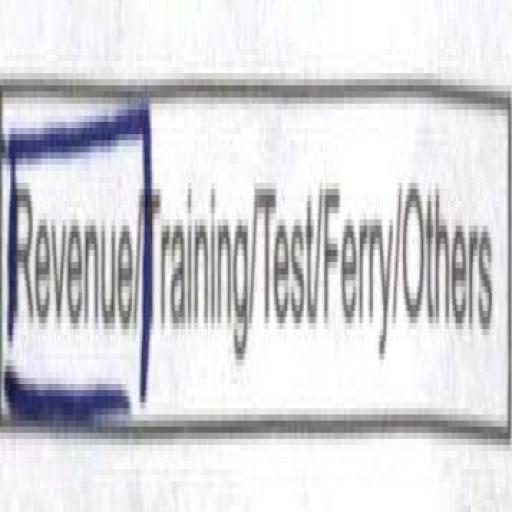check: (0, 0, 143, 458)
